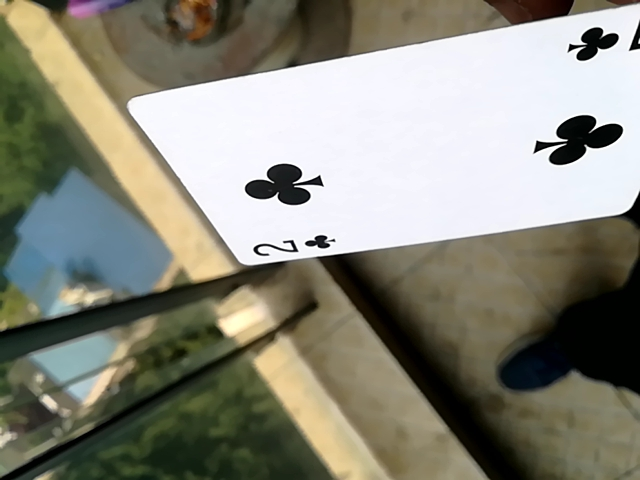mh 2: (128, 0, 633, 275)
